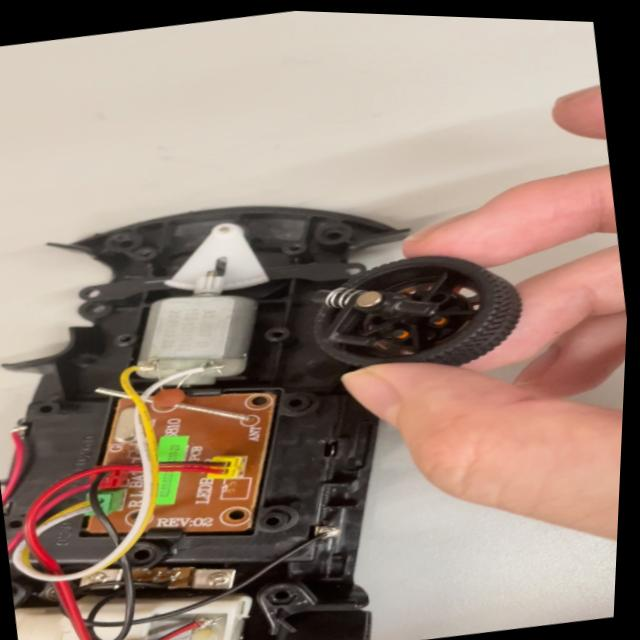motor: (127, 259, 277, 403)
wheel: (297, 233, 530, 394)
